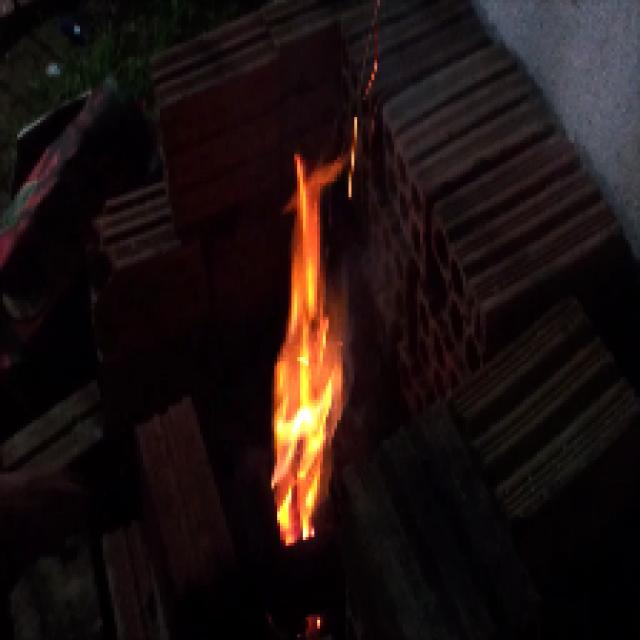fire: (271, 140, 347, 549)
